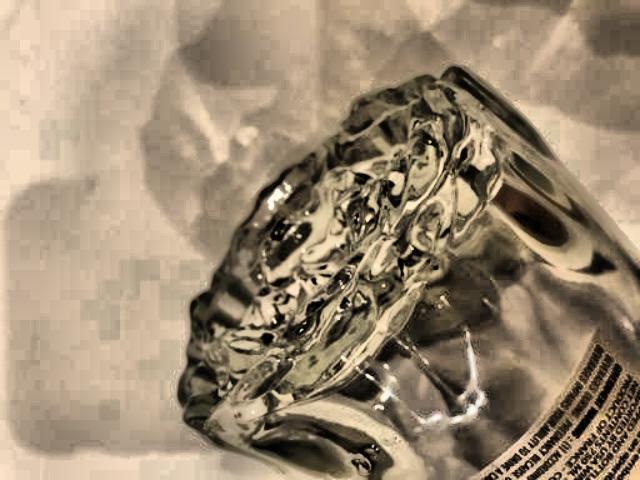Almennt: (161, 51, 639, 480)
